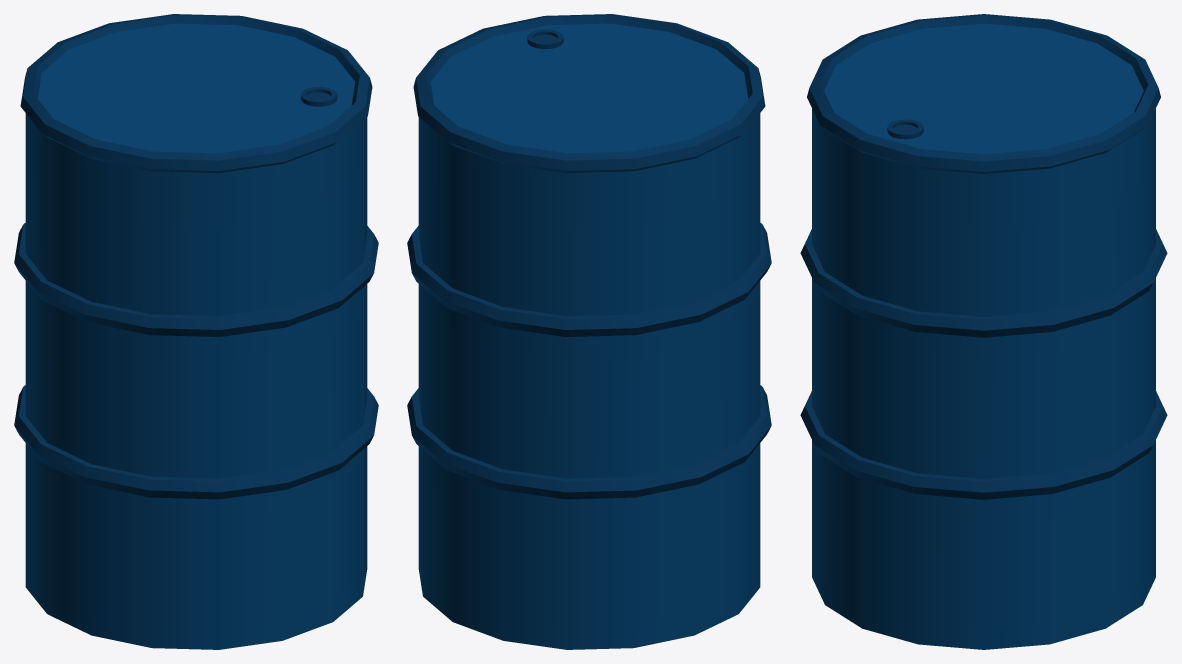
File: Prop_OilBerrel_01.fbx
3 views of the same model, side by side, from view 1: azimuth 30°, elevation 25°; view 2: azimuth 150°, elevation 25°; view 3: azimuth 270°, elevation 25° (orthographic).
Parts seen in each view (by area): view 1: Prop_OilBerrel_01; view 2: Prop_OilBerrel_01; view 3: Prop_OilBerrel_01.
Part boxes in pixels (bbox=[...]): Prop_OilBerrel_01: bbox=[14, 14, 378, 649]; Prop_OilBerrel_01: bbox=[407, 14, 771, 649]; Prop_OilBerrel_01: bbox=[800, 14, 1167, 649].
Size of the model in its own units: 90.32 by 134 by 90.32.
Materials: 1 (1 with a texture image).
